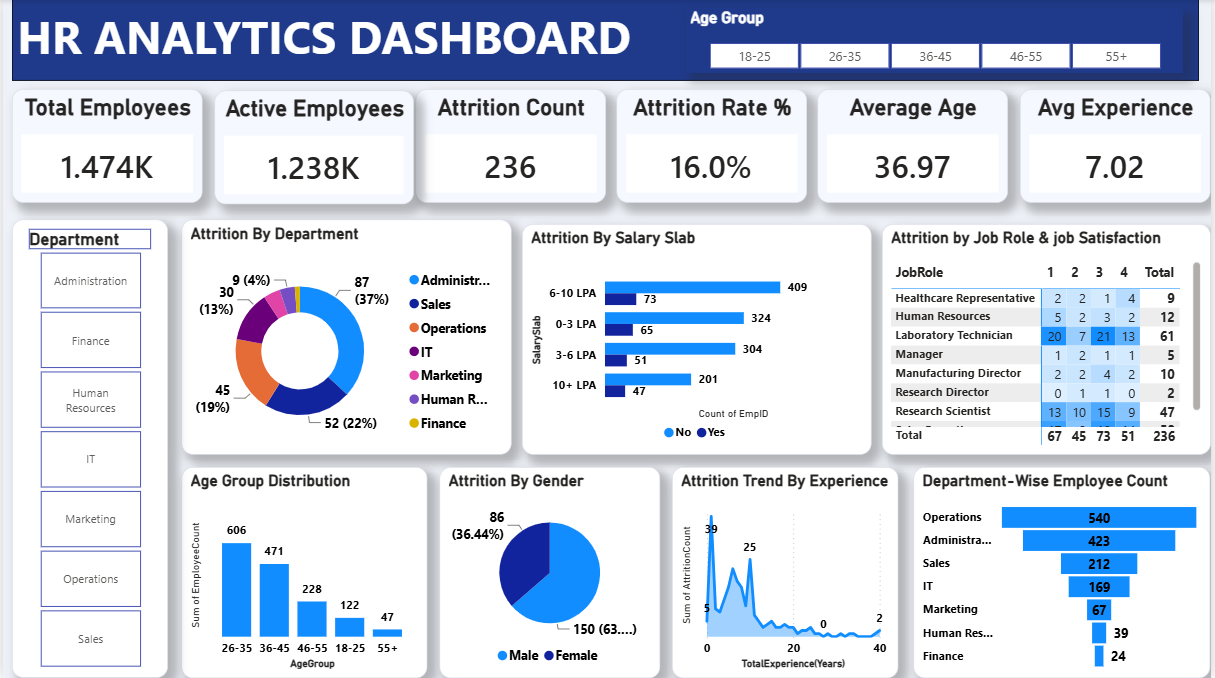

Layout of this report page (visuals, bound fields, positions):
{"tool":"powerbi","page":{"name":"Page 1","canvas":[1280,720],"ordinal":0},"visuals":[{"type":"textbox","box":[10,0,1258.3,86.7],"z":0},{"type":"cardVisual","title":"Total Employees","fields":{"Data":["CountNonNull(HR_Analytics-4.EmpID)"]},"box":[9.5,95.4,202,120.9],"z":1000},{"type":"cardVisual","title":"Attrition Count","fields":{"Data":["Sum(HR_Analytics-4.AttritionCount)"]},"box":[437.4,95.4,202,120.9],"z":2000},{"type":"cardVisual","title":"Attrition Rate %","fields":{"Data":["HR_Analytics-4.Attrition Rate %"]},"box":[650.6,95.4,202,120.9],"z":3000},{"type":"cardVisual","title":"Average Age","fields":{"Data":["Avg(HR_Analytics-4.Age)"]},"box":[863.7,95.4,202,120.9],"z":4000},{"type":"cardVisual","title":"Avg Experience","fields":{"Data":["Avg(HR_Analytics-4.YearsatCompany)"]},"box":[1078.4,95.4,202,120.9],"z":5000},{"type":"cardVisual","title":"Active Employees","fields":{"Data":["CountNonNull(HR_Analytics-4.EmployeeCount)"]},"box":[224.9,96.4,211.7,120.9],"z":6000},{"type":"donutChart","title":"Attrition By Department","fields":{"Category":["HR_Analytics-4.Department"],"Y":["Sum(HR_Analytics-4.AttritionCount)"]},"box":[189.3,238.6,350,249],"z":7000},{"type":"clusteredBarChart","title":"Attrition By Salary Slab","fields":{"Category":["HR_Analytics-4.SalarySlab"],"Y":["CountNonNull(HR_Analytics-4.EmpID)"],"Series":["HR_Analytics-4.Attrition"]},"box":[550.4,238.6,370.6,245],"z":8000},{"type":"pivotTable","title":"Attrition by Job Role & job Satisfaction","fields":{"Rows":["HR_Analytics-4.JobRole"],"Values":["Sum(HR_Analytics-4.AttritionCount)"],"Columns":["HR_Analytics-4.JobSatisfaction"]},"box":[932.1,238.6,348.3,245],"z":9000},{"type":"columnChart","title":"Age Group Distribution","fields":{"Category":["HR_Analytics-4.AgeGroup"],"Y":["Sum(HR_Analytics-4.EmployeeCount)"]},"box":[189.3,496.3,260.9,224.3],"z":10000},{"type":"pieChart","title":"Attrition By Gender","fields":{"Category":["HR_Analytics-4.Gender"],"Y":["Sum(HR_Analytics-4.AttritionCount)"]},"box":[462.9,496.3,233.8,224.3],"z":11000},{"type":"areaChart","title":"Attrition Trend By Experience","fields":{"Category":["HR_Analytics-4.TotalExperience(Years)"],"Y":["Sum(HR_Analytics-4.AttritionCount)"]},"box":[709.4,496.3,240.2,224.3],"z":12000},{"type":"funnel","title":"Department-Wise Employee Count","fields":{"Category":["HR_Analytics-4.Department"],"Y":["CountNonNull(HR_Analytics-4.EmpID)"]},"box":[965.5,496.3,314.9,224.3],"z":13000},{"type":"slicer","fields":{"Values":["HR_Analytics-4.Department"]},"box":[9.5,233.8,165,486],"z":14000},{"type":"slicer","title":"Age Group","fields":{"Values":["HR_Analytics-4.AgeGroup"]},"box":[723.7,9.5,528.1,68.4],"z":15000}]}

Visuals, with their boxes in screenshot pixels (x1, y1, x2, y2), scaled from the page's 1280x720 canvas onto the 1215x678 screenshot:
textbox: rect(9, 0, 1204, 82)
"Total Employees" cardVisual: rect(9, 90, 201, 204)
"Attrition Count" cardVisual: rect(415, 90, 607, 204)
"Attrition Rate %" cardVisual: rect(618, 90, 809, 204)
"Average Age" cardVisual: rect(820, 90, 1012, 204)
"Avg Experience" cardVisual: rect(1024, 90, 1214, 204)
"Active Employees" cardVisual: rect(213, 91, 414, 205)
"Attrition By Department" donutChart: rect(180, 225, 512, 459)
"Attrition By Salary Slab" clusteredBarChart: rect(522, 225, 874, 455)
"Attrition by Job Role & job Satisfaction" pivotTable: rect(885, 225, 1214, 455)
"Age Group Distribution" columnChart: rect(180, 467, 427, 677)
"Attrition By Gender" pieChart: rect(439, 467, 661, 677)
"Attrition Trend By Experience" areaChart: rect(673, 467, 901, 677)
"Department-Wise Employee Count" funnel: rect(916, 467, 1214, 677)
slicer - HR_Analytics-4.Department: rect(9, 220, 166, 677)
"Age Group" slicer: rect(687, 9, 1188, 73)
